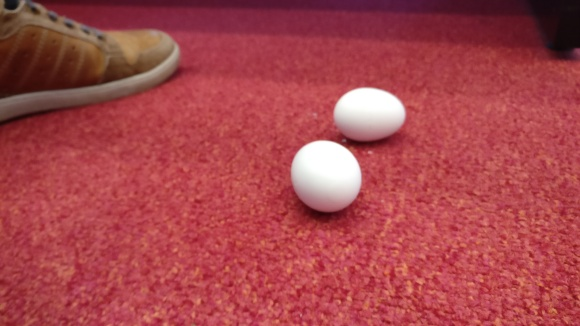egg: (290, 140, 363, 213), (333, 87, 407, 143)
